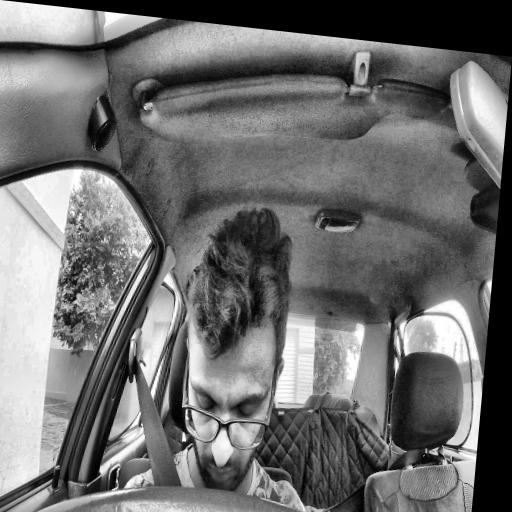drowsy: (169, 201, 300, 503)
